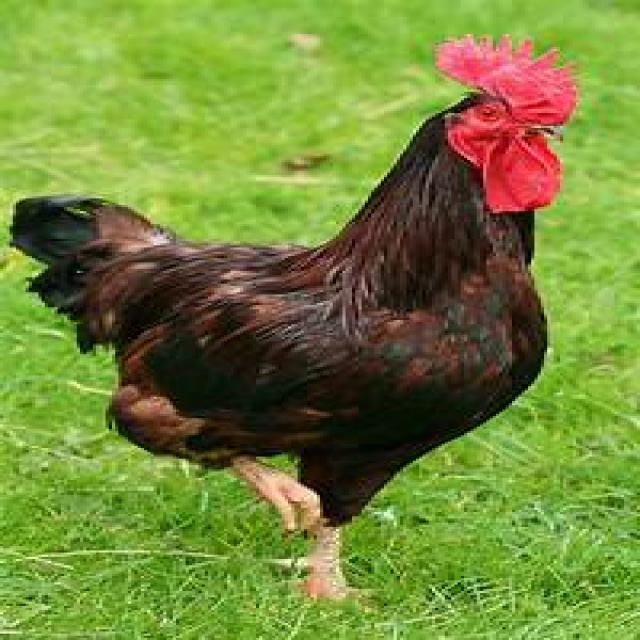animal: (3, 32, 579, 610)
